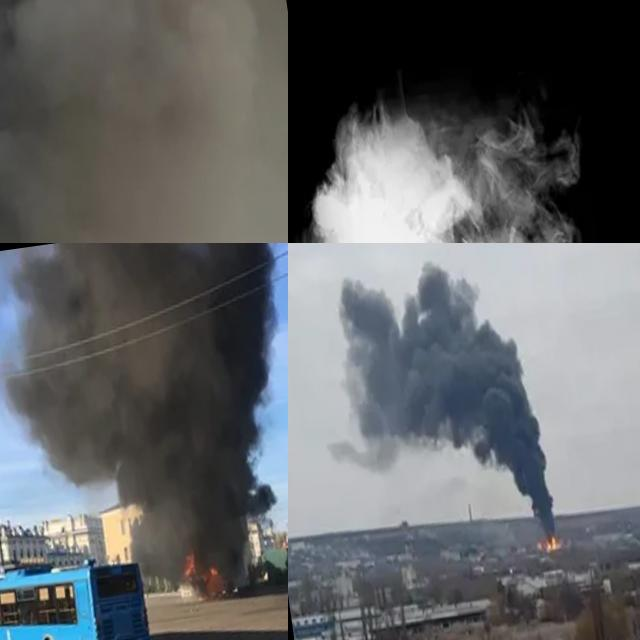smoke: (0, 243, 288, 587), (310, 246, 582, 564), (0, 0, 288, 243), (288, 77, 629, 243)
